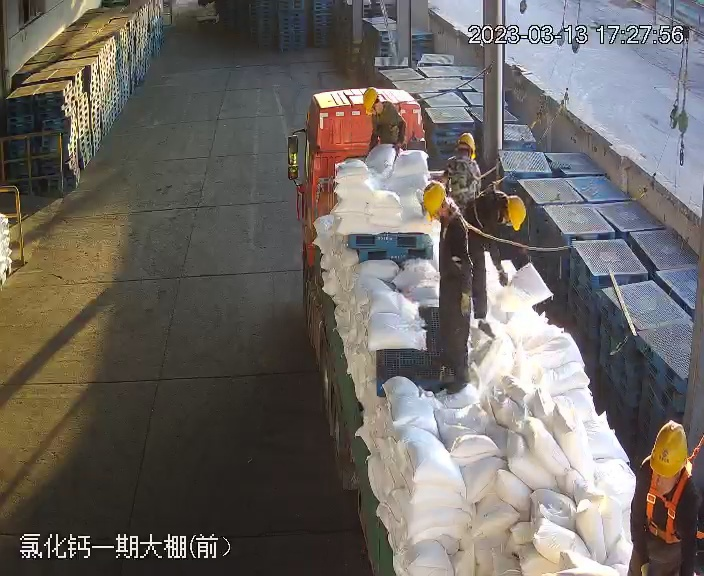belt: (642, 468, 699, 542), (469, 187, 511, 240), (443, 156, 481, 194)
head: (634, 419, 702, 512), (422, 183, 469, 244), (476, 188, 528, 238), (442, 132, 483, 172), (362, 88, 402, 122)
helmet: (648, 422, 690, 477), (421, 181, 447, 220), (505, 195, 528, 231), (454, 131, 477, 153), (361, 87, 380, 112)
people: (419, 188, 482, 393), (625, 423, 703, 574), (452, 188, 527, 312), (361, 88, 408, 158)
truck: (294, 76, 675, 576)
